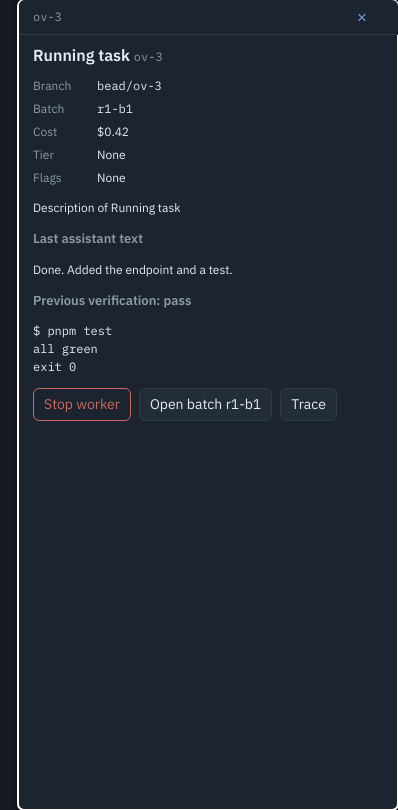
TaskPane › keeps Stop worker reading Stopping… after the 202 until the job ends
Click the button "Stop worker": {"x": 82, "y": 404} [33,388,131,421]
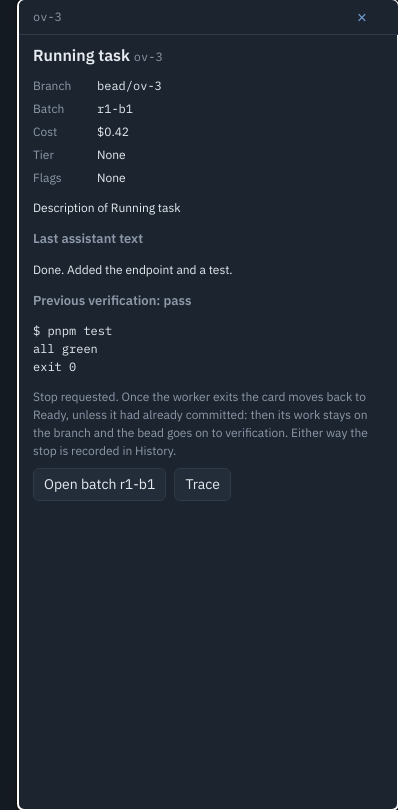
Expected: the text "Stop requested" is shown, [33,389,368,458]
